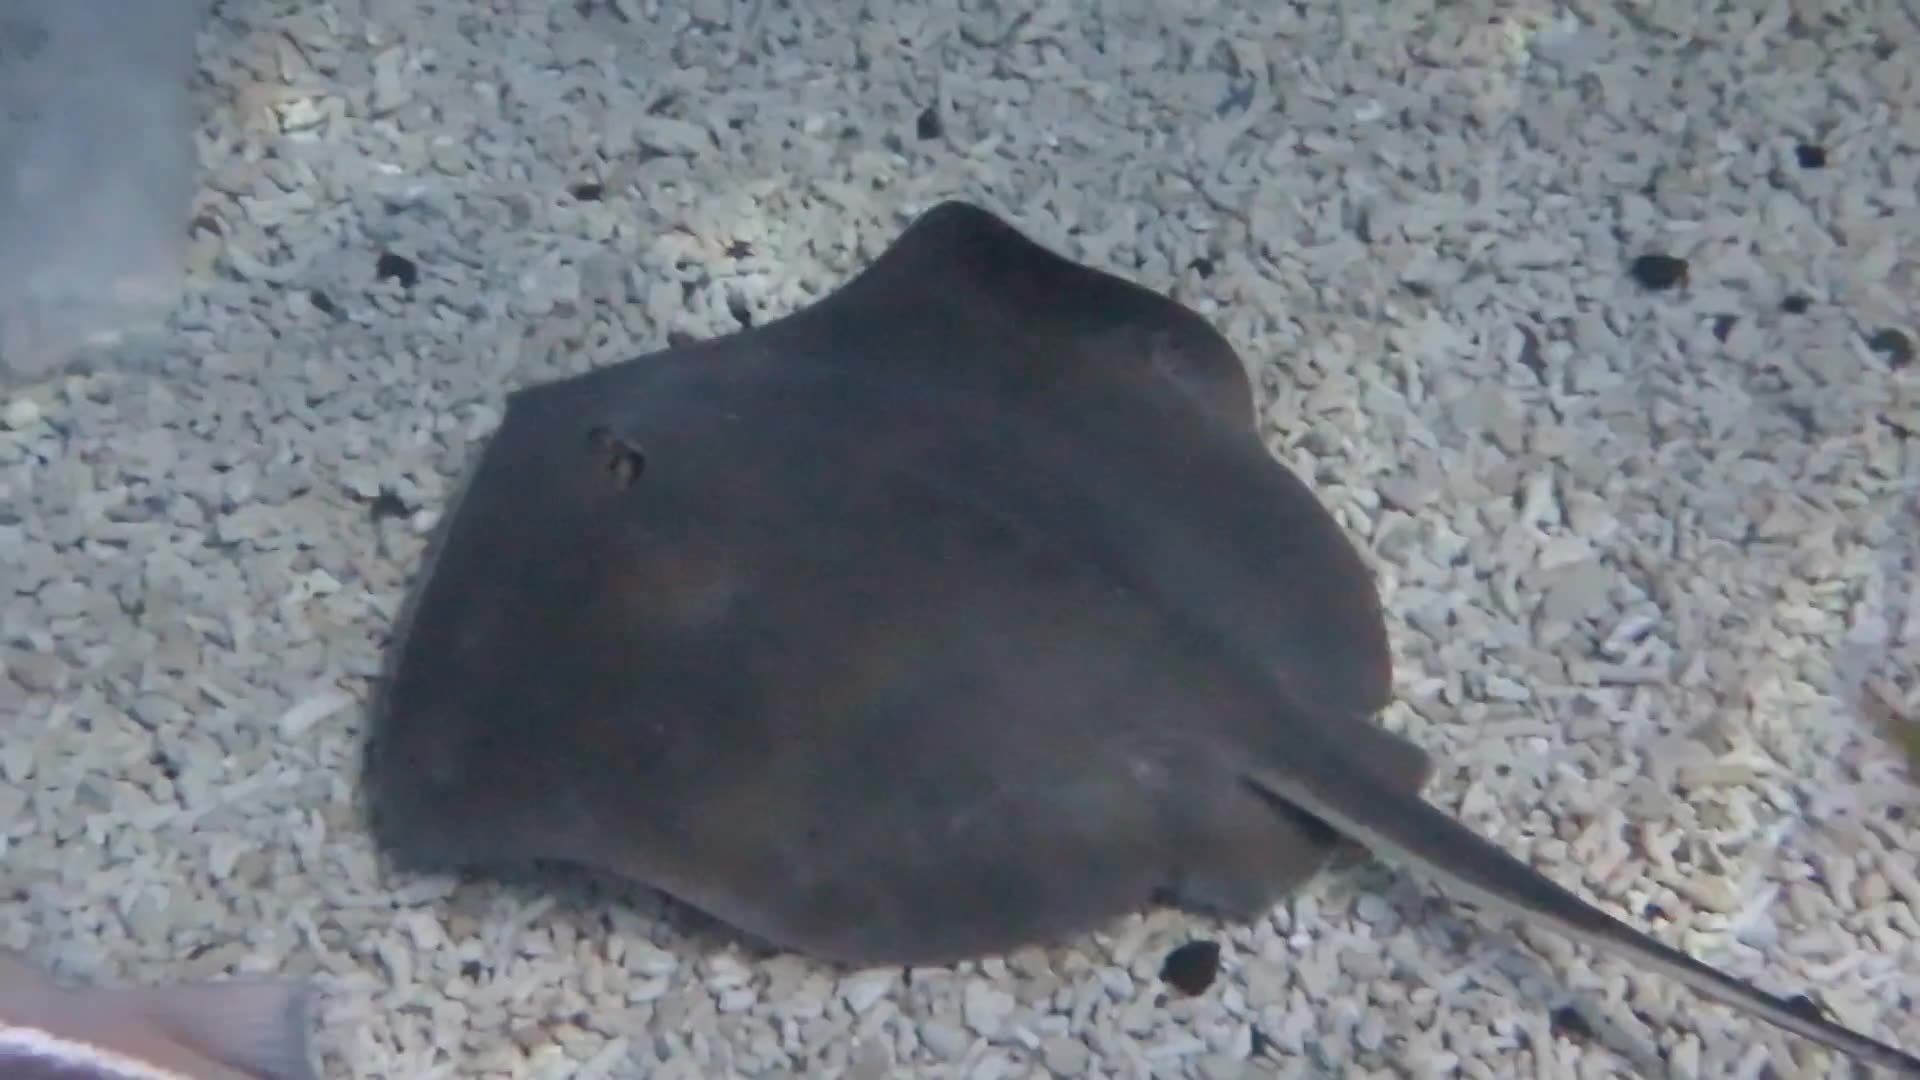Dasyatis bennetti: (278, 154, 1419, 998)
